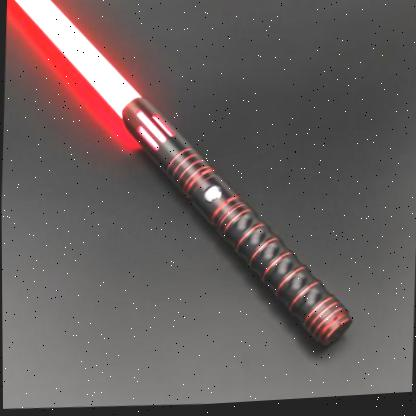sith_lightsaber: (8, 0, 366, 370)
